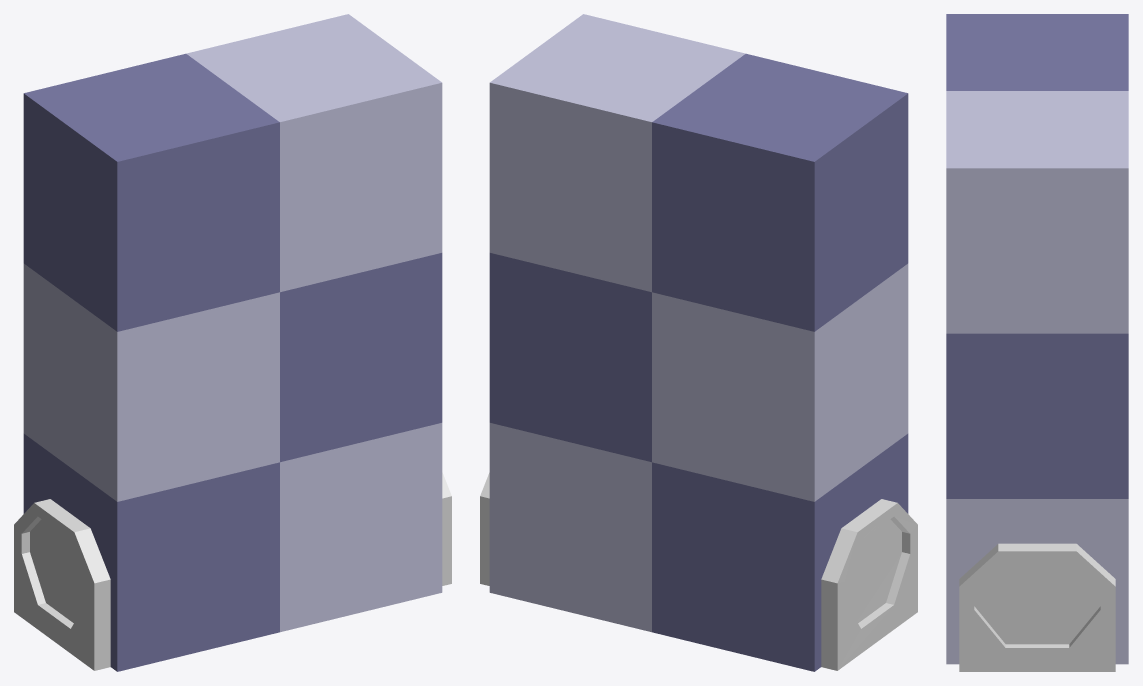
The model's file is loosemicro.fbx.
3 views of the same model, side by side, from view 1: azimuth 30°, elevation 25°; view 2: azimuth 150°, elevation 25°; view 3: azimuth 270°, elevation 25° (orthographic). The views are drawn at different scales.
Visible parts, largest first — view 1: SmallStorage_StorageLooseMicro; view 2: SmallStorage_StorageLooseMicro; view 3: SmallStorage_StorageLooseMicro.
Boxes of the visible parts, bbox=[...] form: SmallStorage_StorageLooseMicro: bbox=[14, 14, 451, 671]; SmallStorage_StorageLooseMicro: bbox=[480, 14, 917, 671]; SmallStorage_StorageLooseMicro: bbox=[946, 14, 1128, 671].
Bounding box in the file's own units: 440 × 600 × 200.
